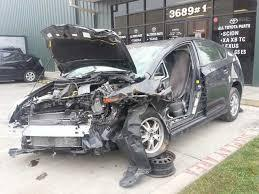doorouter-dent: (164, 51, 205, 115)
fender-dent: (116, 78, 163, 112)
front-bumper-dent: (13, 113, 99, 149)
